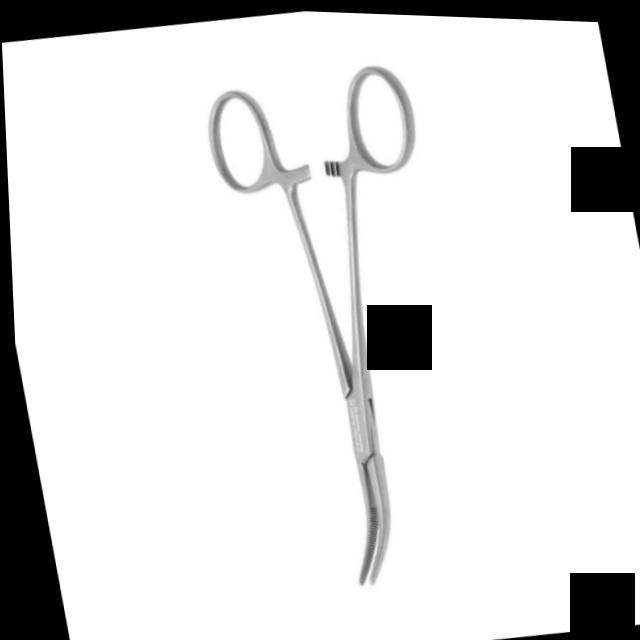Artery Forceps: (192, 42, 514, 611)
